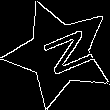N_SW: (27, 25, 91, 82)
